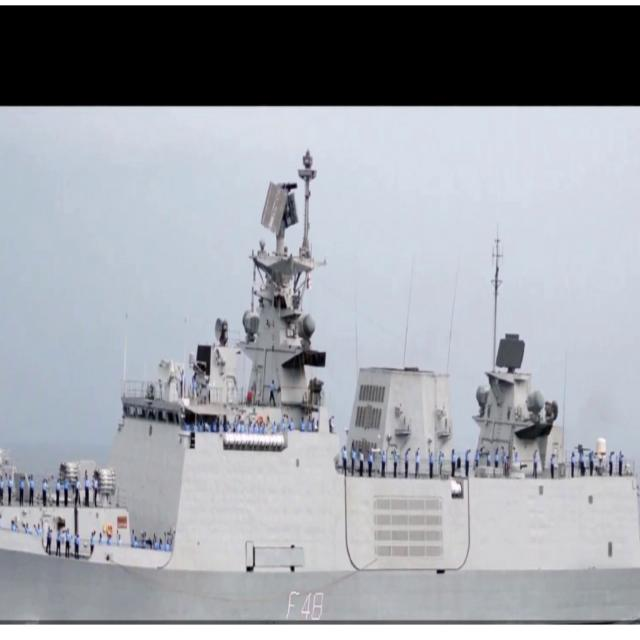OCR: (279, 584, 331, 620)
